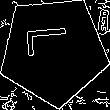L_E: (27, 33, 79, 68)
